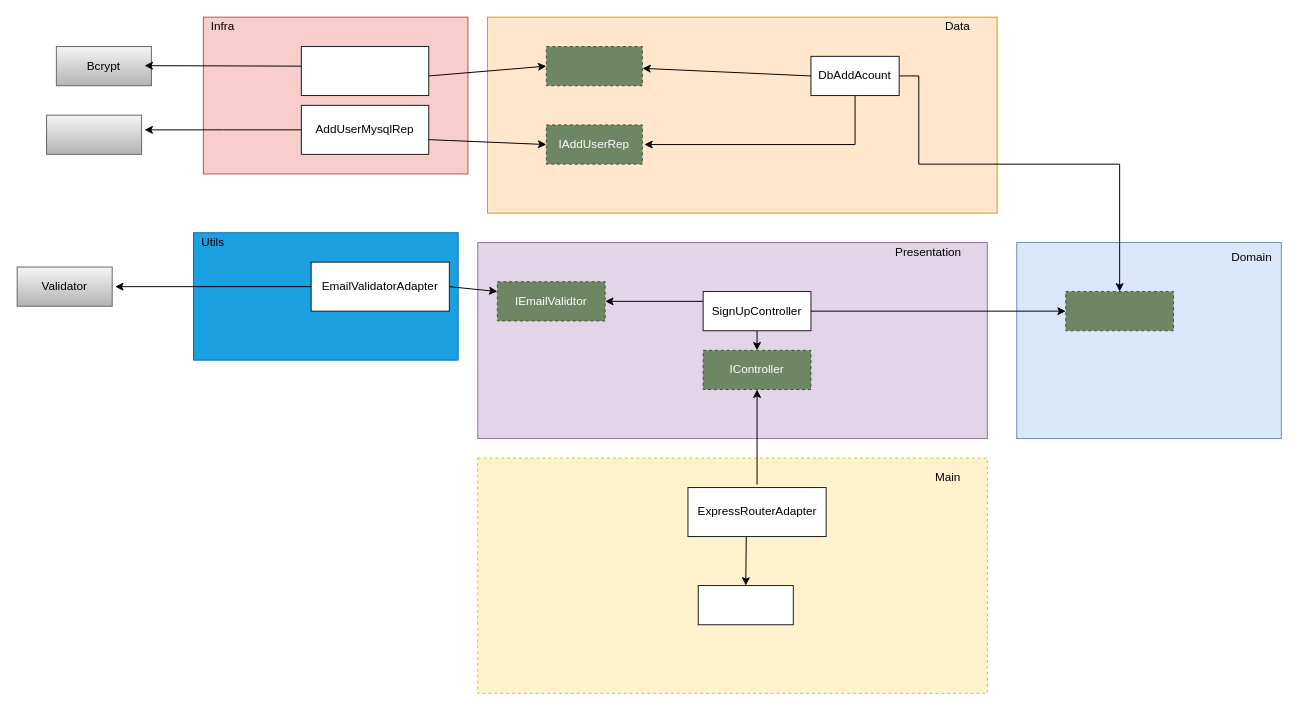
The diagram is 1299 pixels wide and 711 high, and some of its shapes have lost their labels. The centre of each missing label's shape, as x and y in pixels:
"AddAcount" goes at [1119,311].
"BcryptAdapter" goes at [364,71].
"Express" goes at [745,605].
"IEcrypter" goes at [593,66].
"Mysql" goes at [94,134].
